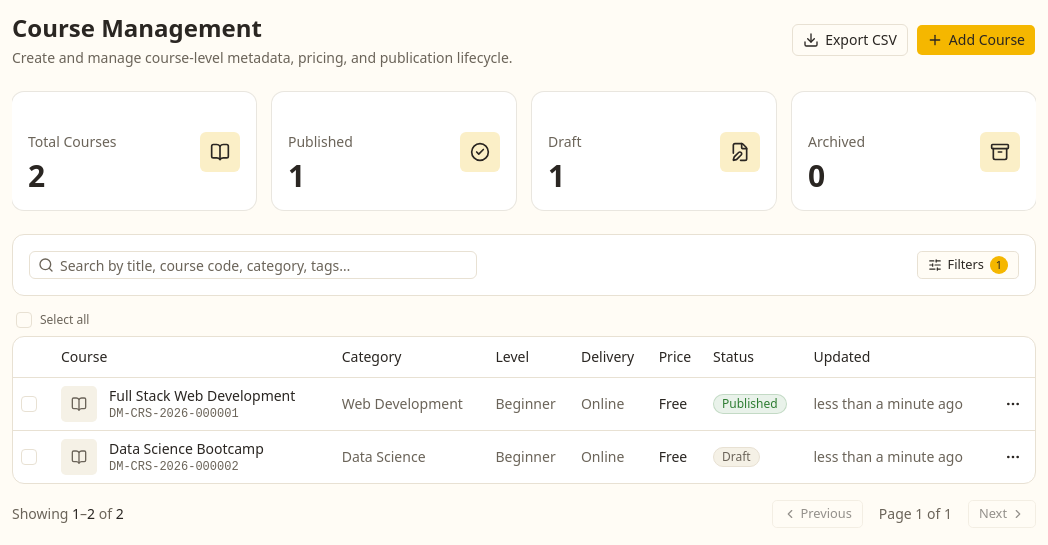
Test: CoursesPage › filters the table by search
Expected: the text "Full Stack Web Development" is shown, [109,386,295,406]
In the field with placeholder "Search by title, course code, category, tags…": point(265, 265) [54,249,476,281], type "Data Science"
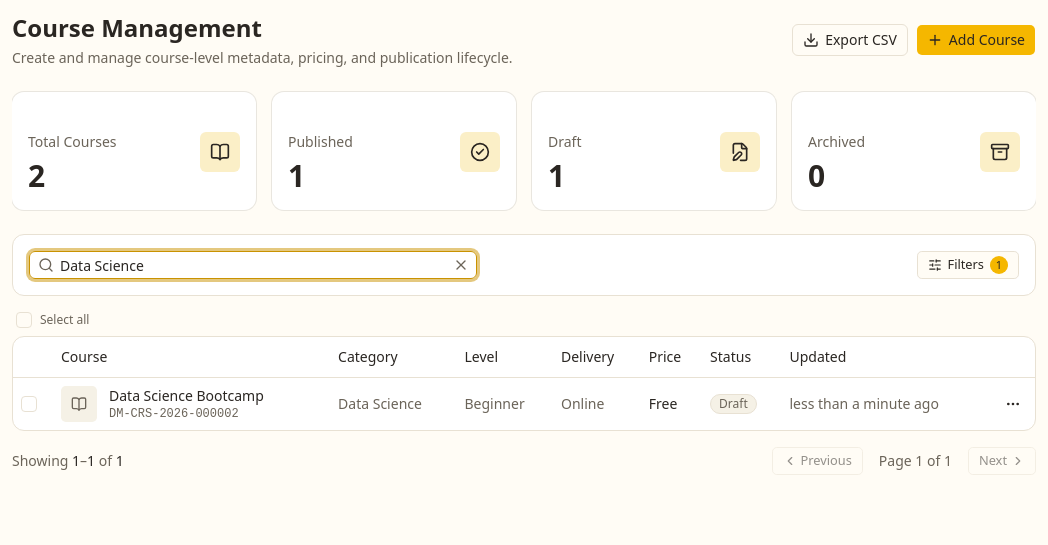
Expected: the text "Data Science Bootcamp" is shown, [109,386,264,406]
Expected: the button "Full Stack Web Development" is gone
